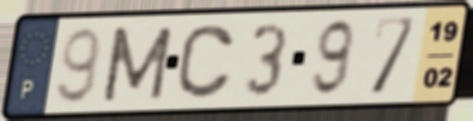3: (241, 21, 290, 99)
7: (369, 14, 418, 97)
9: (53, 24, 107, 107), (308, 16, 359, 99)
C: (173, 21, 238, 101)
M: (98, 24, 177, 105)
